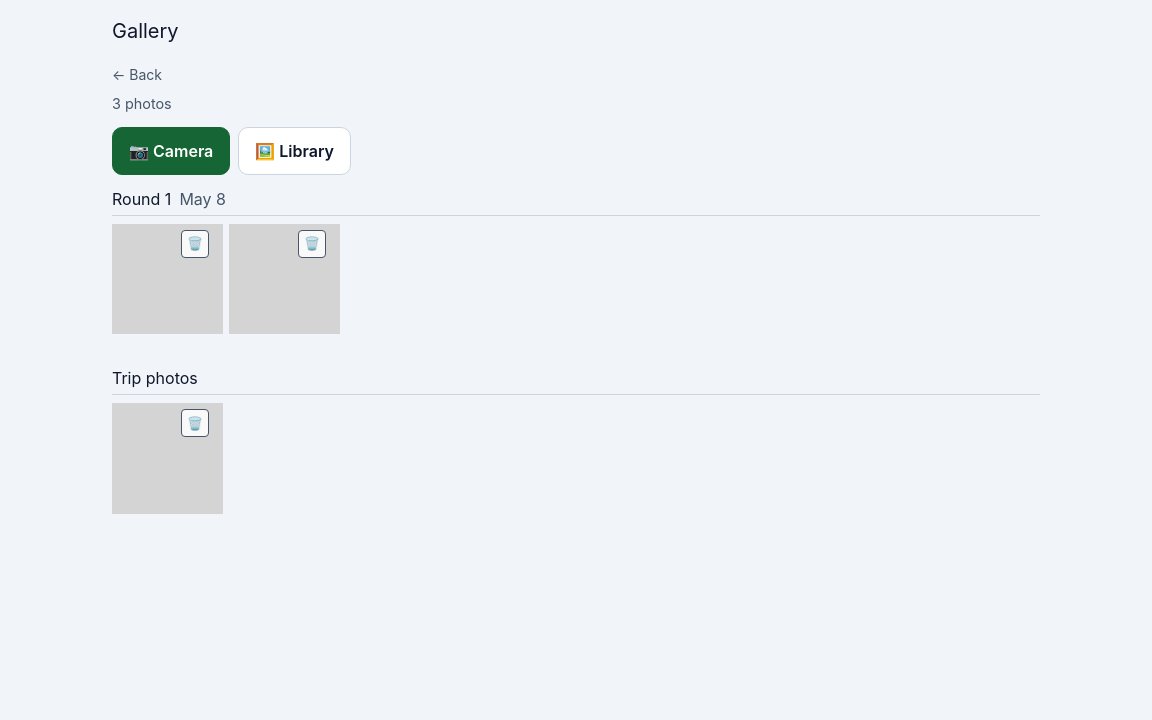
it: GalleryPage › organizer sees delete buttons; clicking opens confirmation dialog
Expected: the heading "Round 1May 8" is shown, [112,187,1040,216]
Click the button named "Delete photo". click: x=195, y=244
box: [181,230,209,258]
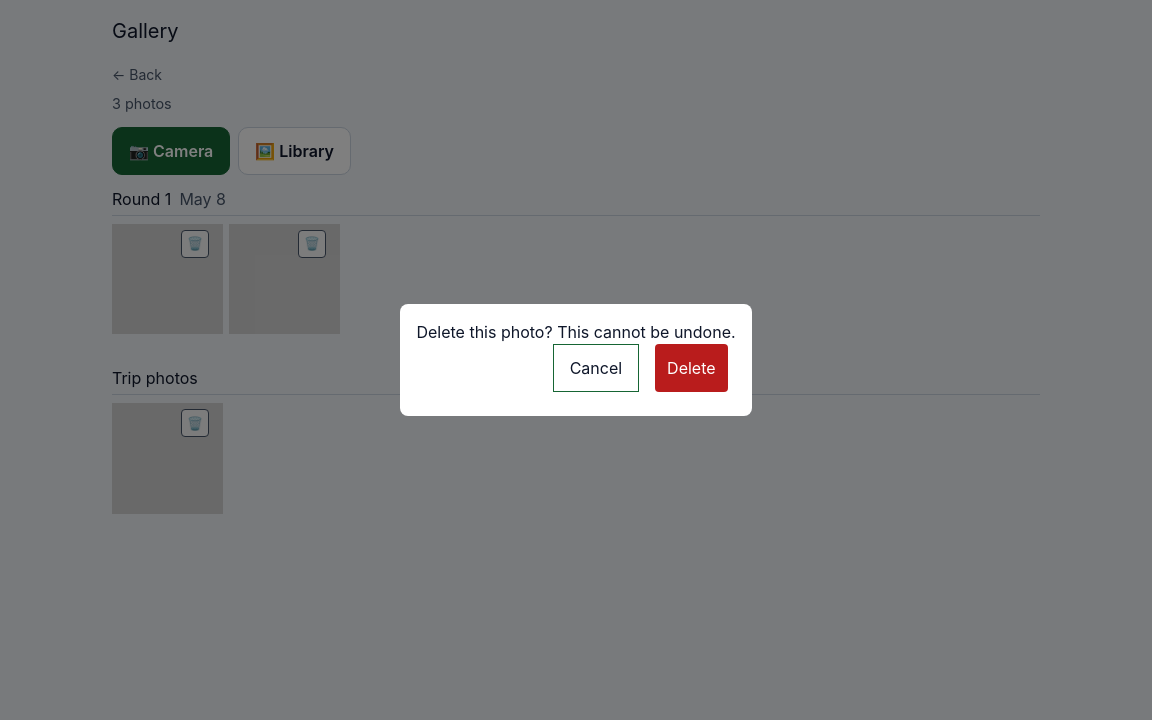
Now the dialog named "Delete confirmation" is shown
Now the text "Delete this photo? This cannot be undone." is shown, box [416,320,736,344]
